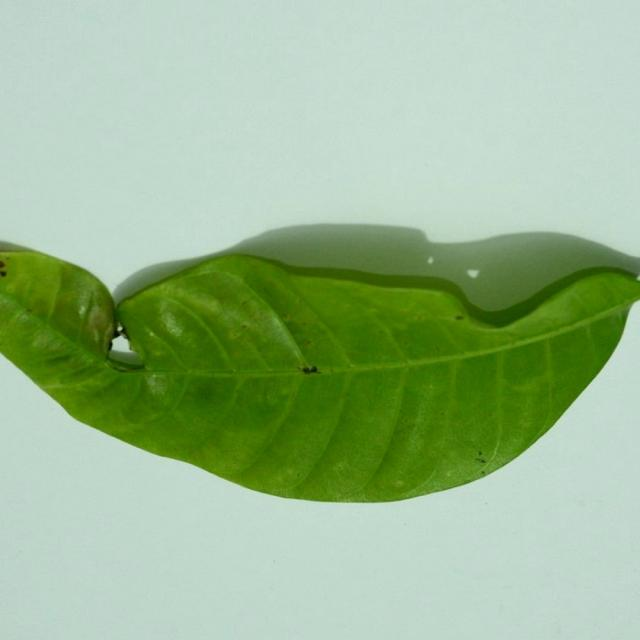Anthracnose: (106, 304, 147, 374), (105, 351, 168, 374), (122, 362, 201, 374), (101, 323, 119, 356), (295, 356, 314, 371), (111, 326, 125, 345)
Mango: (0, 225, 639, 506)
